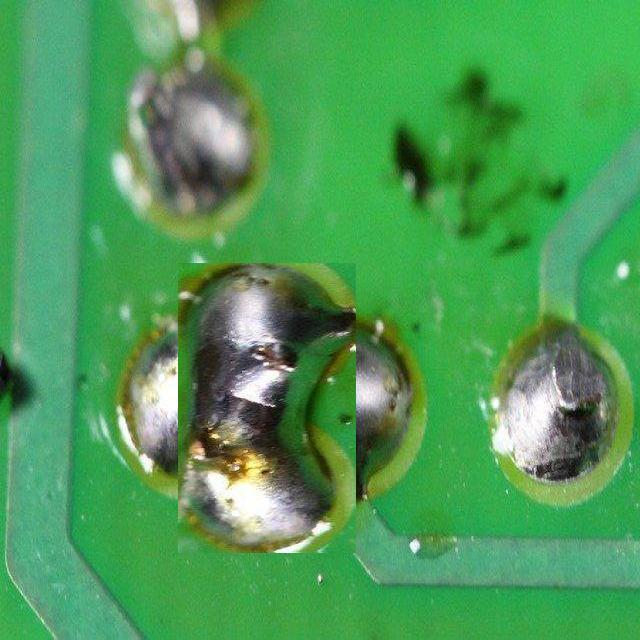Short_circuit: (179, 263, 355, 552)
